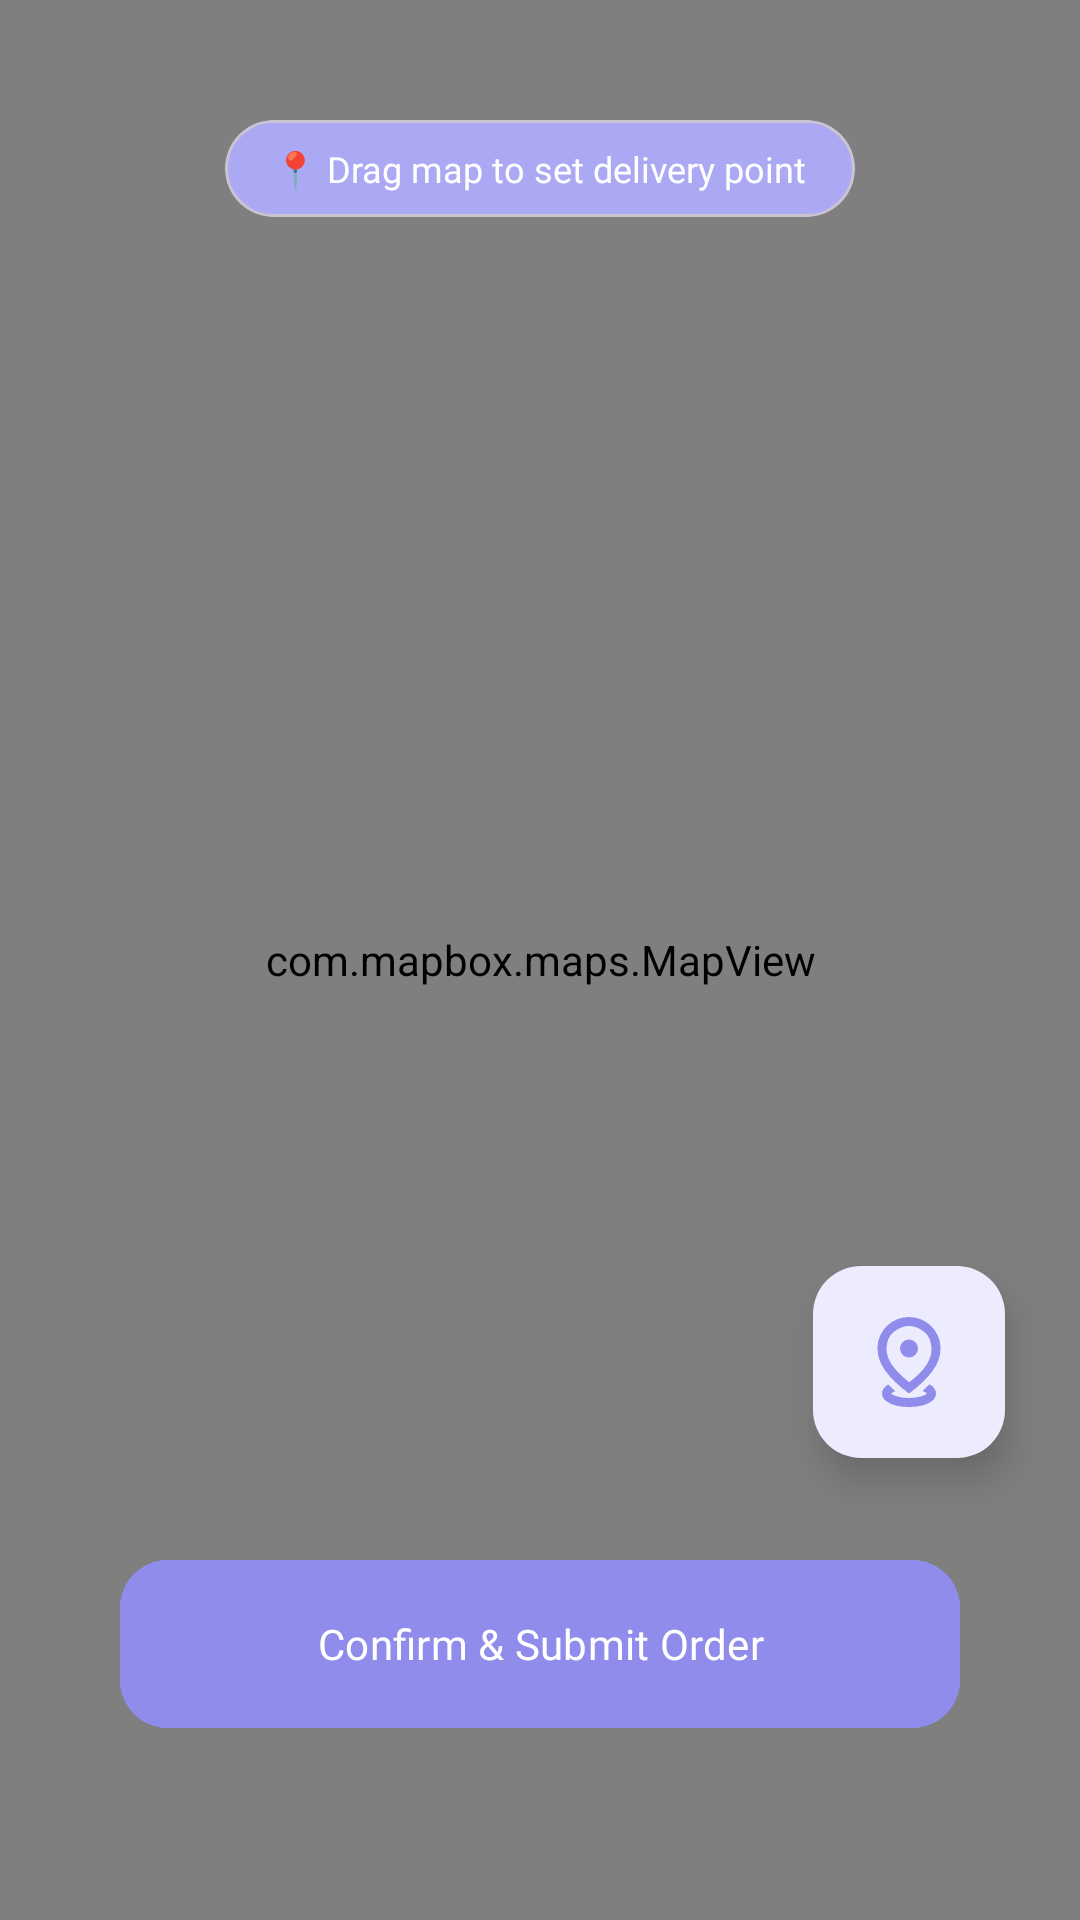

Where to tap for icons on this 1080px×1920px app screen, as point (x, y):
location: point (909, 1362)
